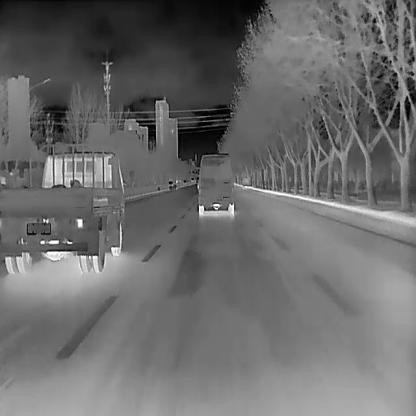car: (0, 144, 134, 274), (196, 153, 234, 216), (241, 177, 251, 186), (167, 180, 174, 186)
